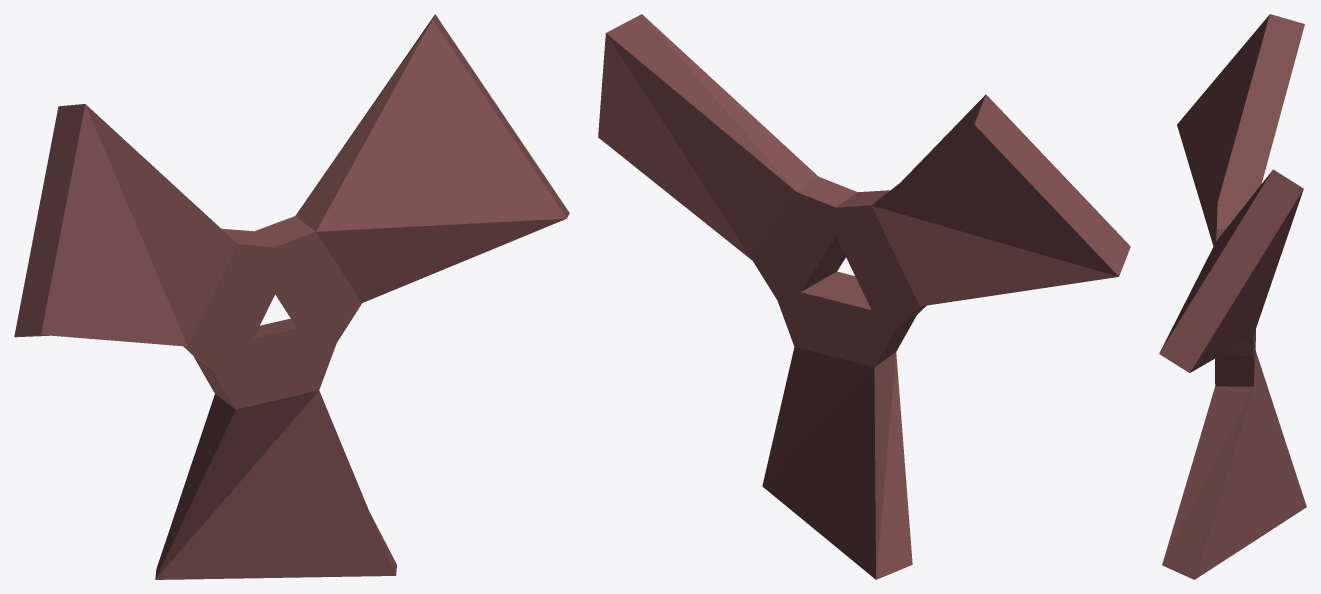
File: Propellor.fbx
3 renders of one model, left to right at view 1: azimuth 30°, elevation 25°; view 2: azimuth 150°, elevation 25°; view 3: azimuth 270°, elevation 25°, orthographic. The views are drawn at different scales.
Parts seen in each view (by area): view 1: polySurface24; view 2: polySurface24; view 3: polySurface24.
Part boxes in pixels (left/top/right/bottom): polySurface24: left=14, top=14, right=569, bottom=579; polySurface24: left=598, top=14, right=1130, bottom=579; polySurface24: left=1159, top=14, right=1306, bottom=579.
Bounding box in the file's own units: 2.21 × 1.95 × 0.5782.
